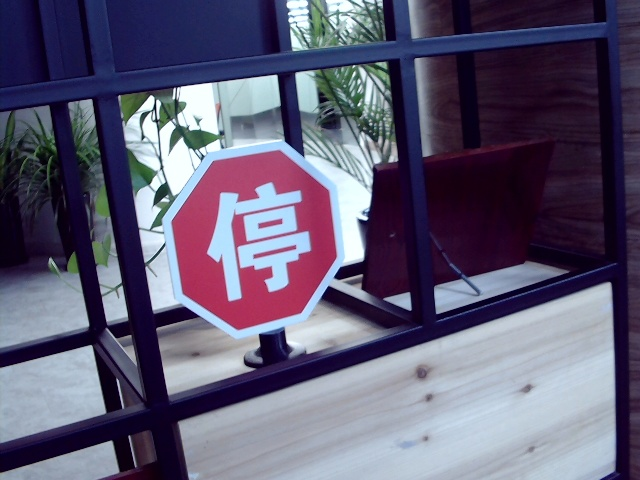stop: (202, 182, 312, 295)
